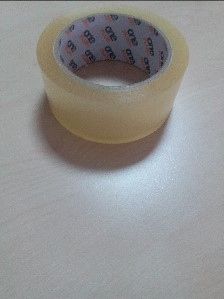band: (36, 0, 189, 151)
